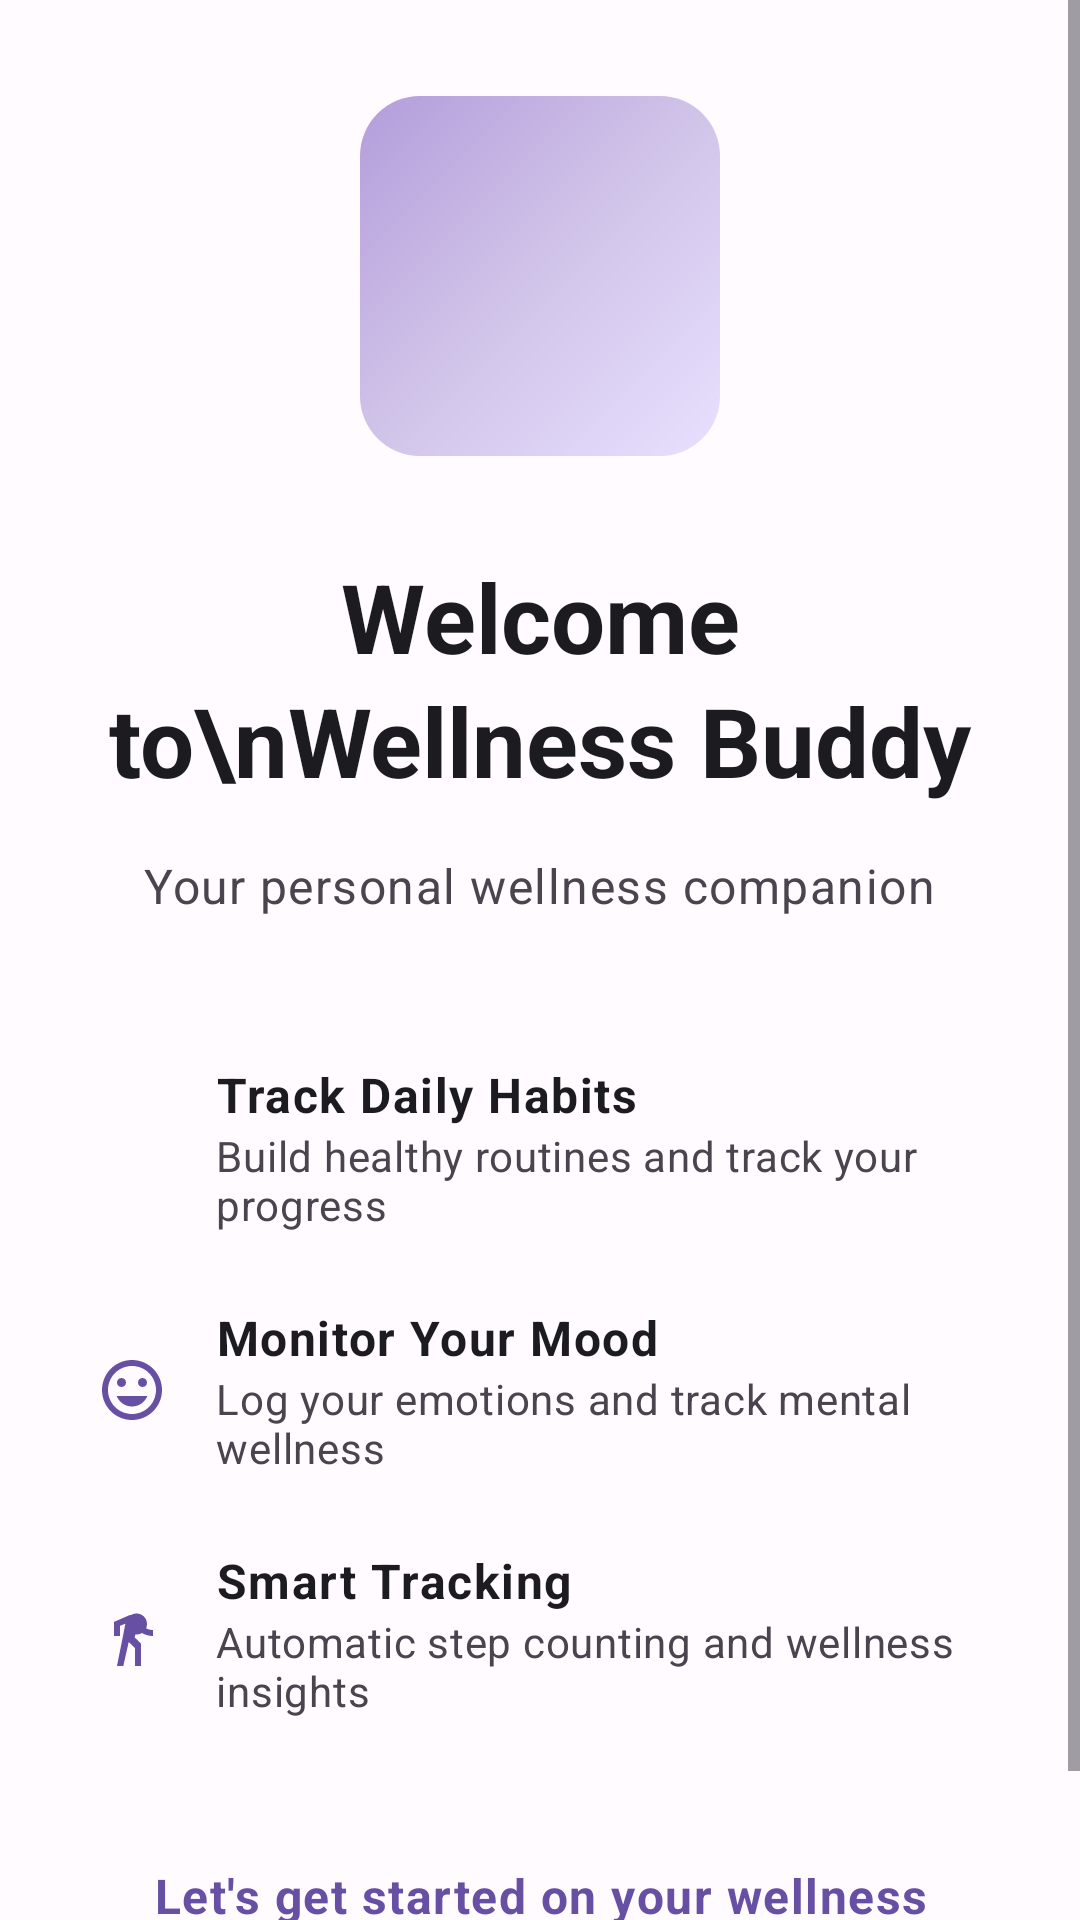

Named icons in this screenshot (1080x1920) and their centers, [x,y]:
directions walk: [133,1639]
